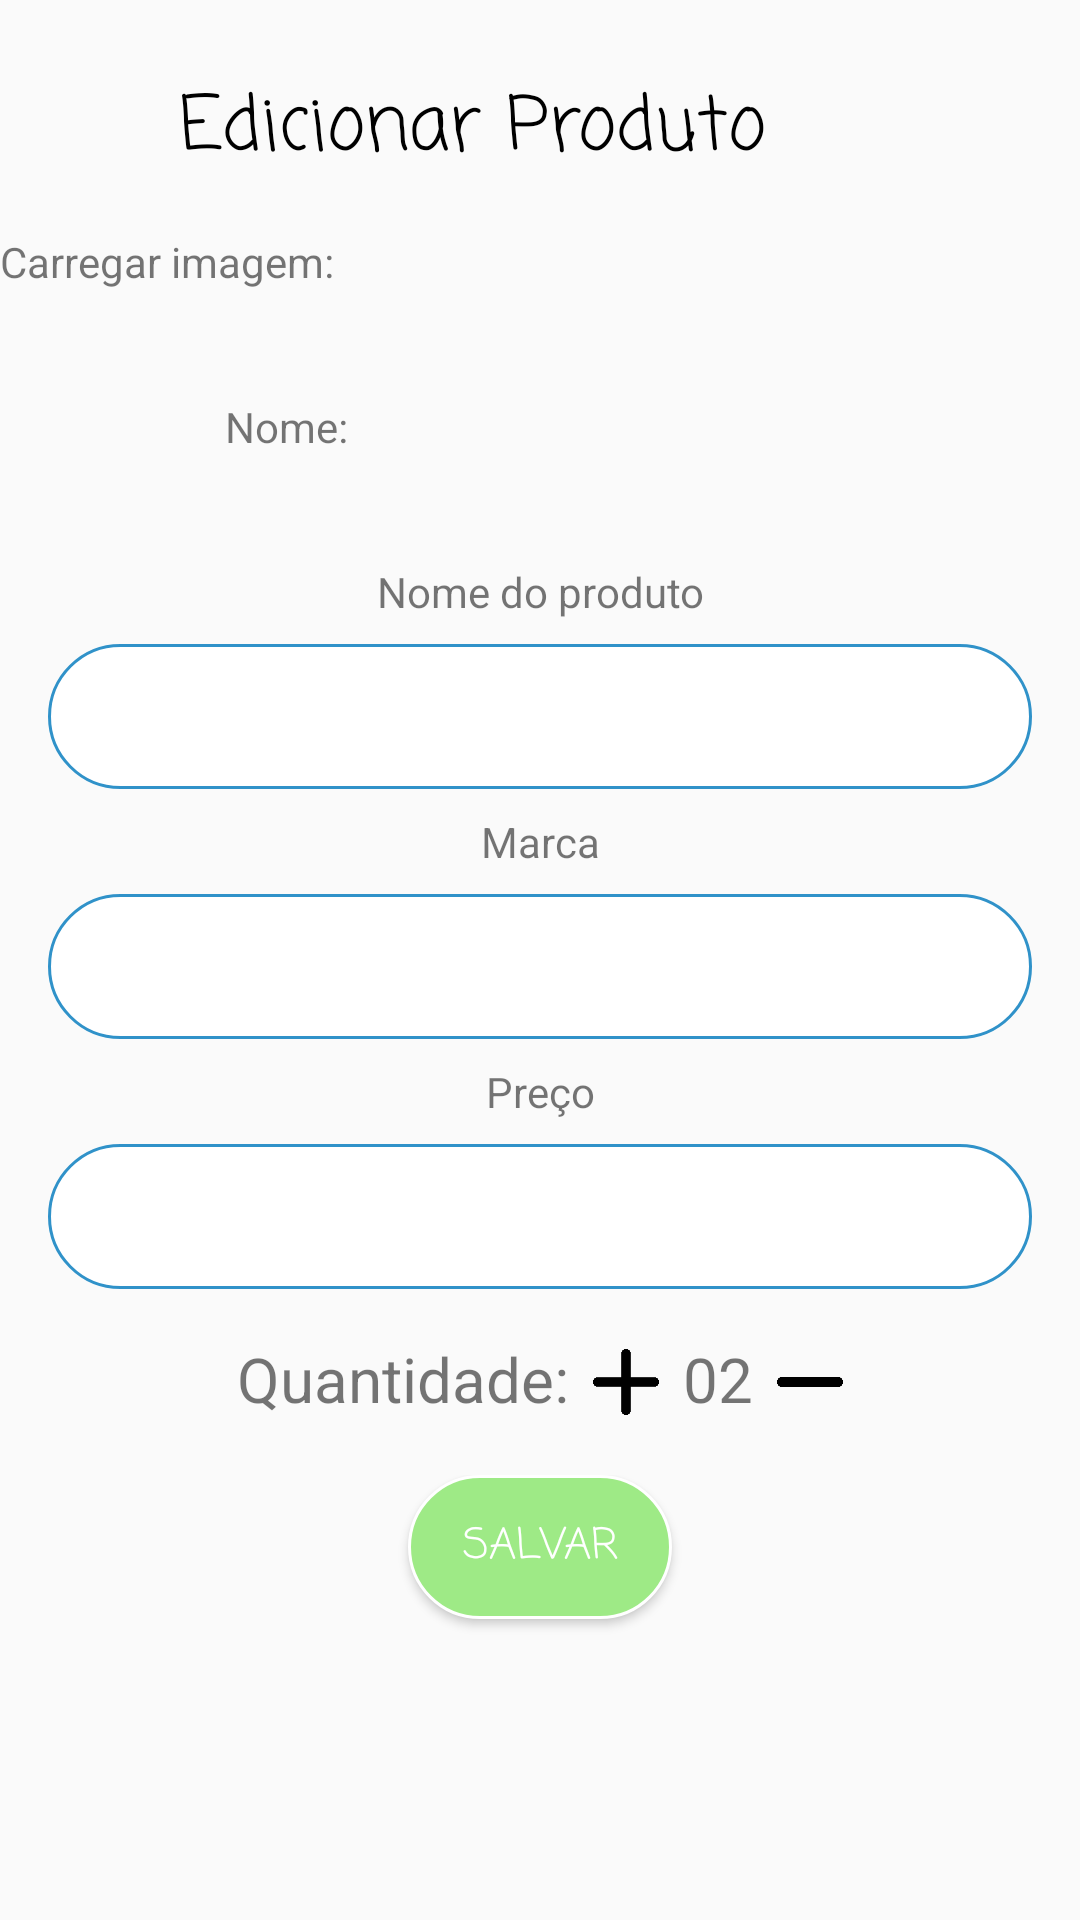

Icons on this 1080px×1920px Android screen, each with the point to tap as (x,y):
add: (626,1382)
